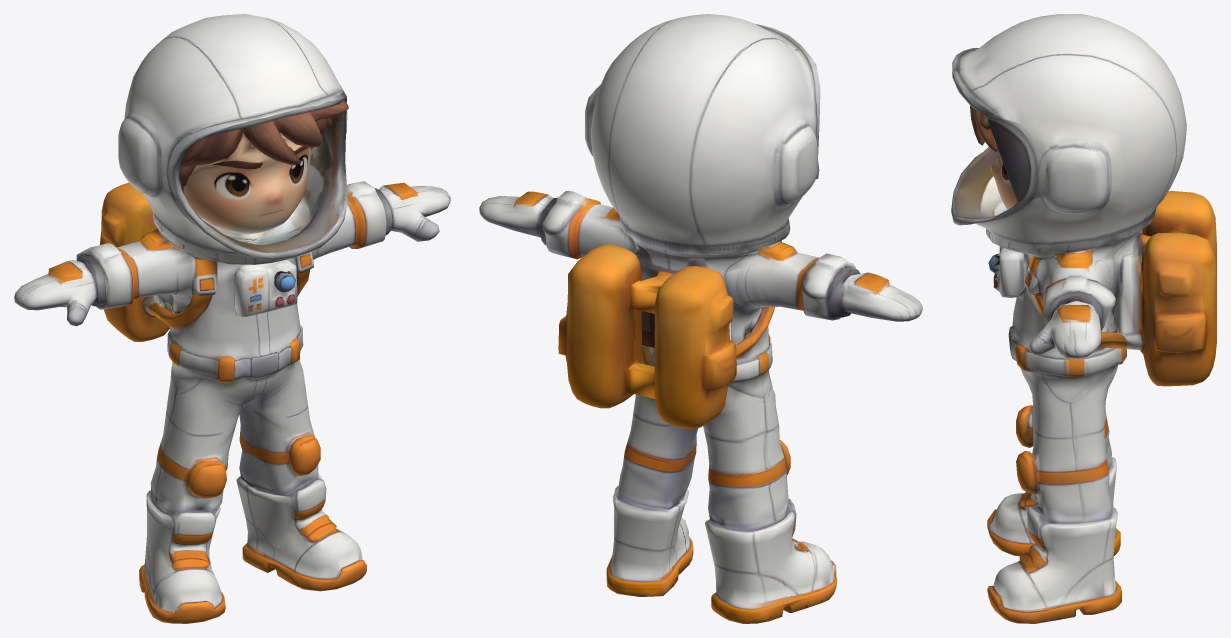
The model's file is Meshy_AI_Noah2_0214012300_texture.fbx.
3 renders of one model, left to right at view 1: azimuth 30°, elevation 25°; view 2: azimuth 150°, elevation 25°; view 3: azimuth 270°, elevation 25°, orthographic. The views are drawn at different scales.
Parts seen in each view (by area): view 1: Mesh_0; view 2: Mesh_0; view 3: Mesh_0.
Boxes of the visible parts, bbox=[...] form: Mesh_0: bbox=[14, 14, 450, 623]; Mesh_0: bbox=[479, 14, 922, 623]; Mesh_0: bbox=[951, 14, 1216, 623].
Bounding box in the file's own units: 155 × 191 × 83.37.
Materials: 1 (1 with a texture image).
